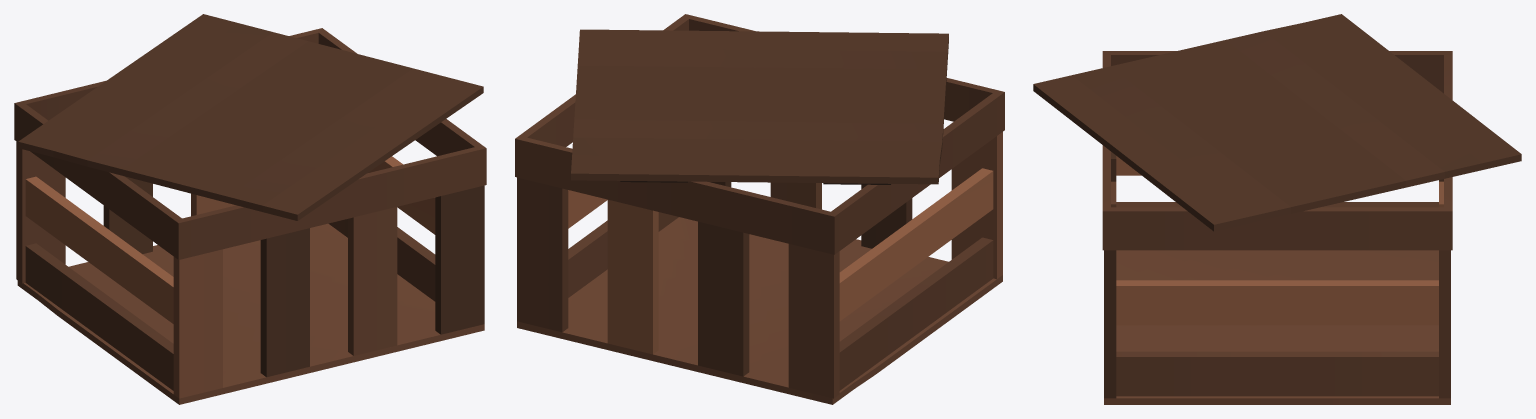
File: Med Cherry Crate Open Lid.fbx
3 views of the same model, side by side, from view 1: azimuth 30°, elevation 25°; view 2: azimuth 150°, elevation 25°; view 3: azimuth 270°, elevation 25° (orthographic). The views are drawn at different scales.
Visible parts, largest first — view 1: Med Cherry Crate Open Lid; view 2: Med Cherry Crate Open Lid; view 3: Med Cherry Crate Open Lid.
Part boxes in pixels (<box>): Med Cherry Crate Open Lid: <box>14,14,486,404</box>; Med Cherry Crate Open Lid: <box>515,14,1004,404</box>; Med Cherry Crate Open Lid: <box>1033,14,1521,404</box>.
Size of the model in its own units: 125 by 268 by 273.
Materials: 1 (1 with a texture image).
